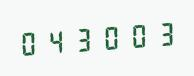four: (43, 23, 68, 57)
three: (70, 21, 95, 56), (148, 16, 173, 50)
zero: (17, 25, 42, 59), (96, 20, 121, 54), (122, 18, 147, 52)
